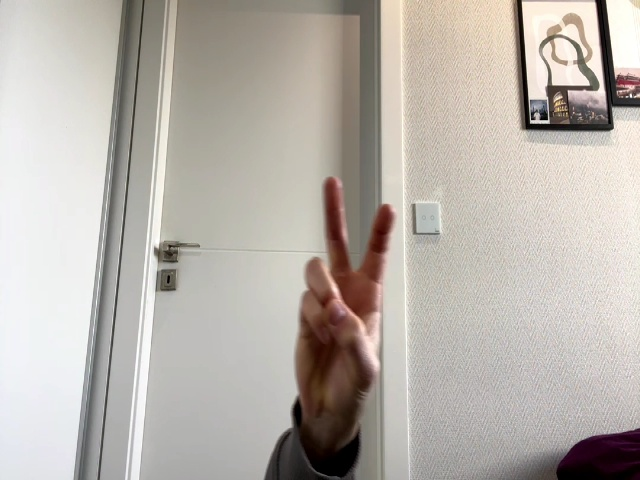H: (295, 176, 394, 422)
